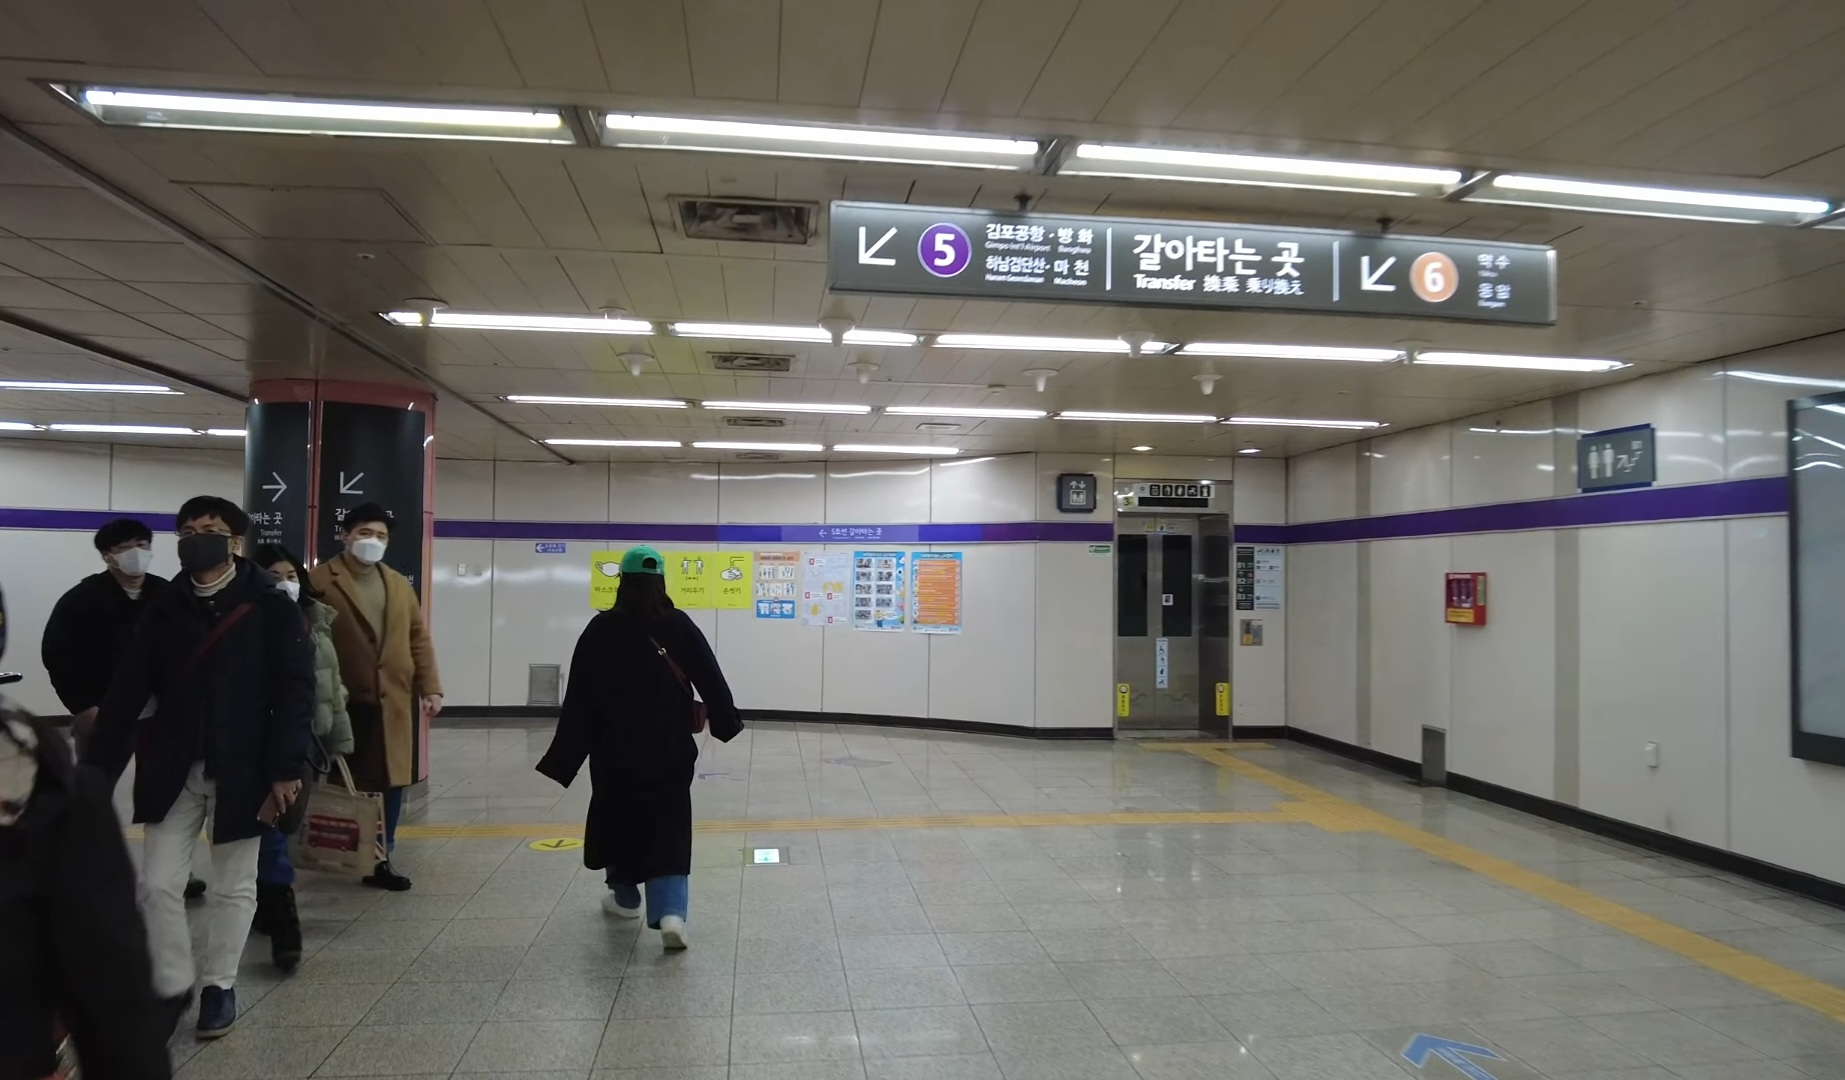signBoard: (813, 190, 1569, 338)
